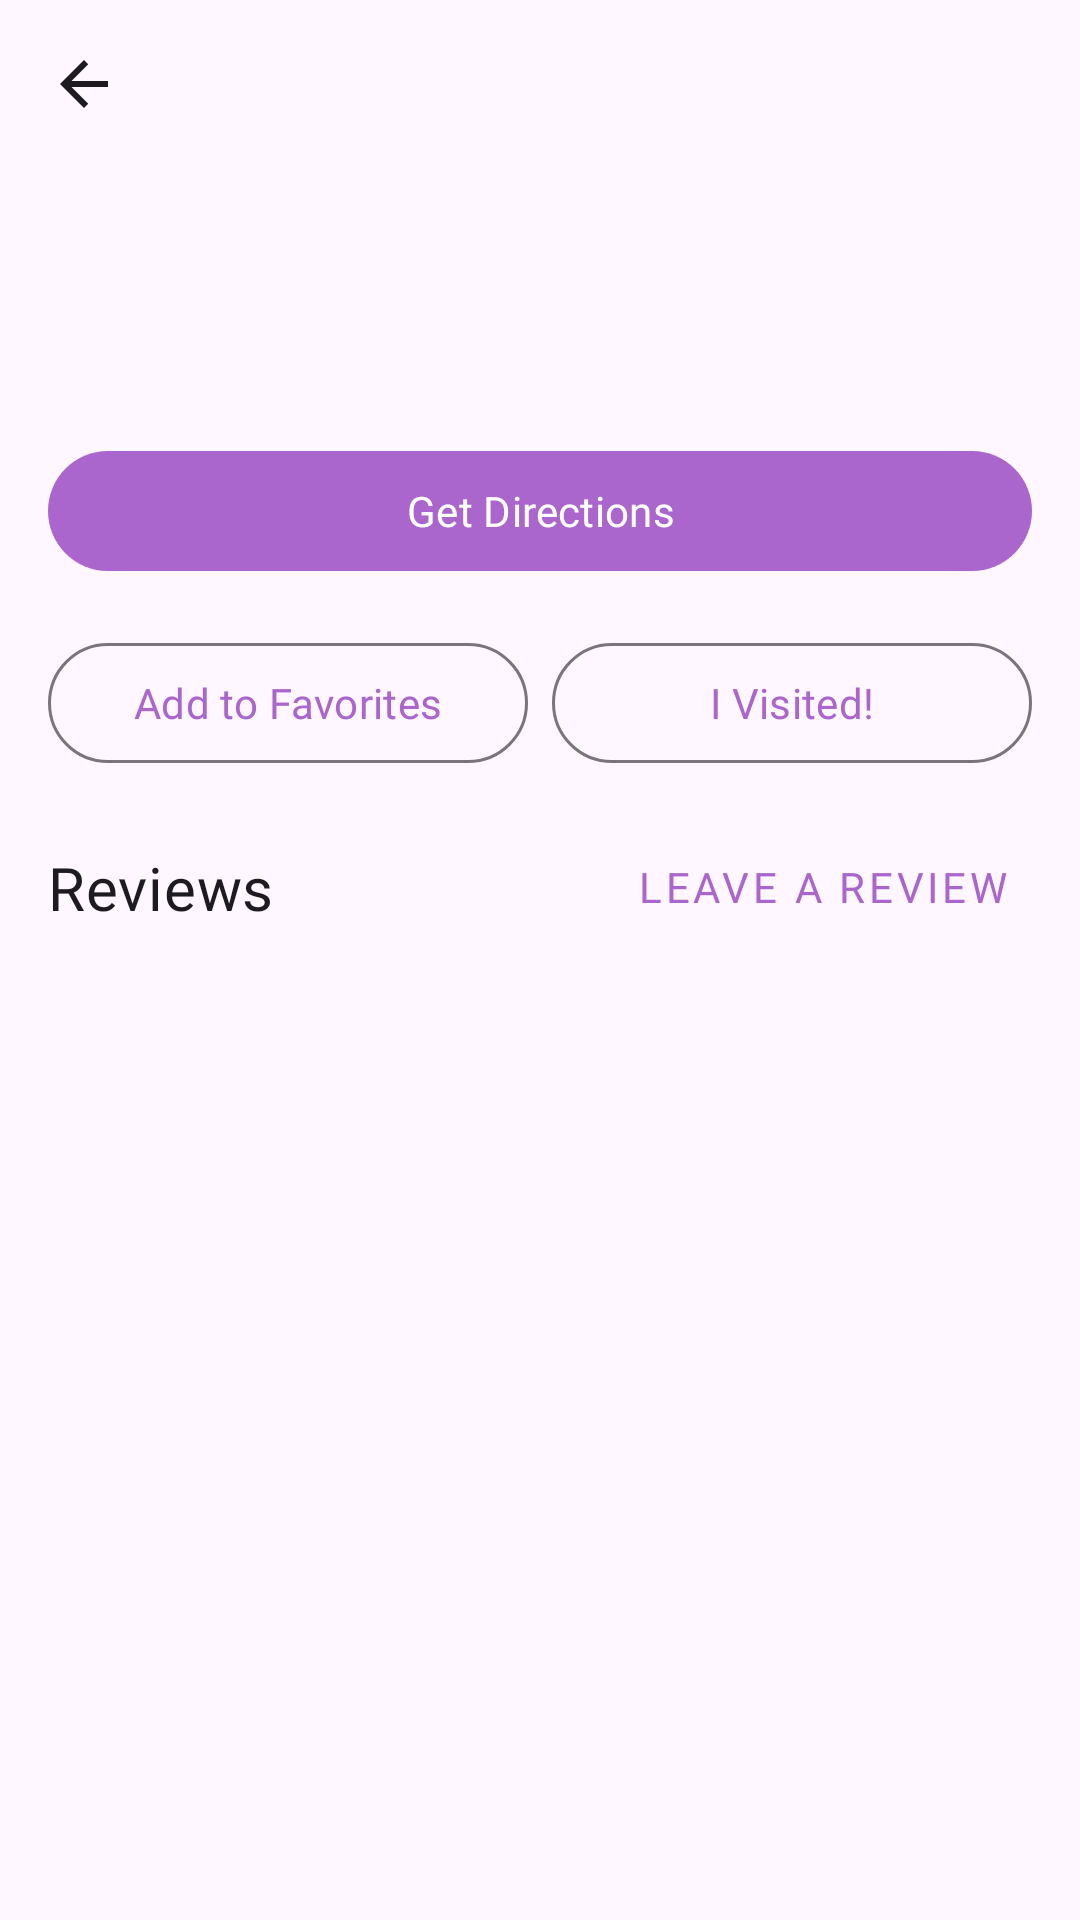

Icons on this 1080px x 1920px Android screen, each with its box as (x1,y1,x2,y2):
Back: (60,60,108,108)
